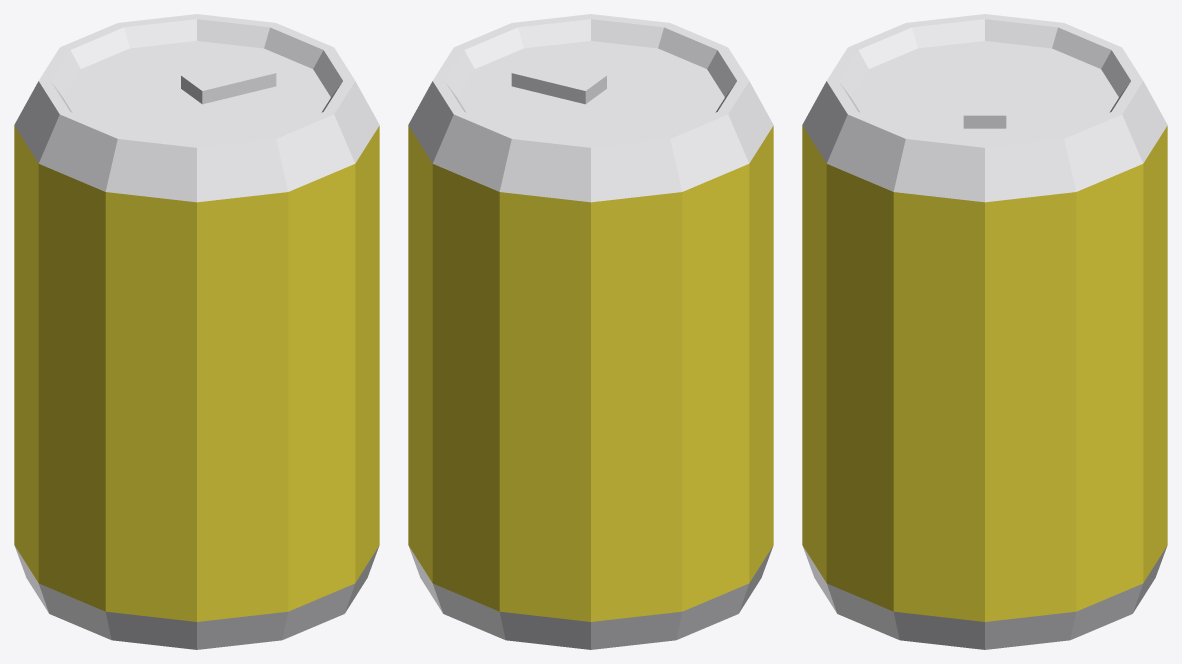
The model's file is Waste_Can.fbx.
3 views of the same model, side by side, from view 1: azimuth 30°, elevation 25°; view 2: azimuth 150°, elevation 25°; view 3: azimuth 270°, elevation 25° (orthographic).
Visible parts, largest first — view 1: Waste_Can; view 2: Waste_Can; view 3: Waste_Can.
Part boxes in pixels (<box>): Waste_Can: <box>14,14,379,649</box>; Waste_Can: <box>408,14,773,649</box>; Waste_Can: <box>802,14,1167,649</box>.
Size of the model in its own units: 0.3 by 0.45 by 0.3.
